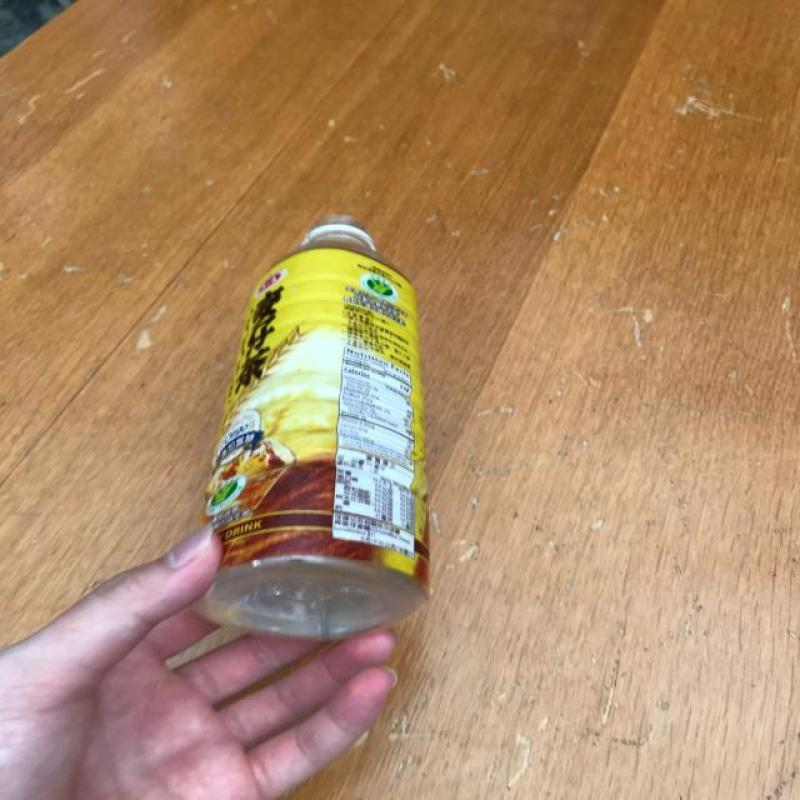botella: (190, 215, 431, 641)
